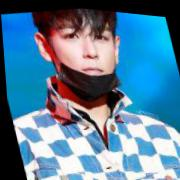WRONG: (44, 5, 127, 103)
